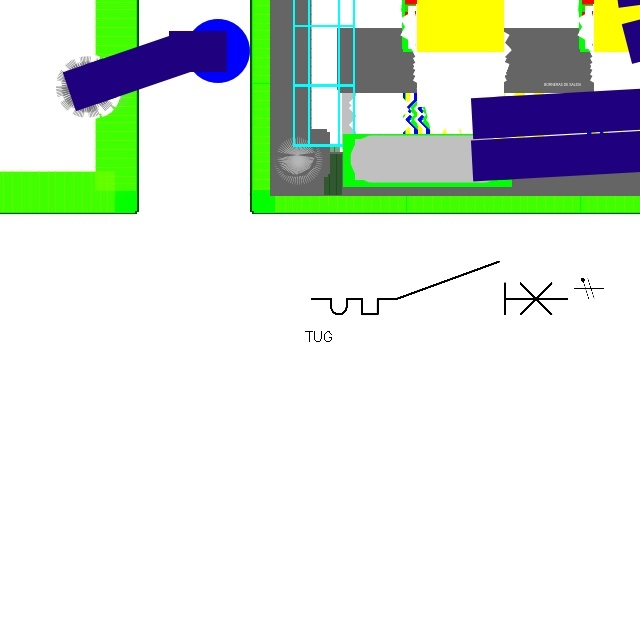interruptor_termomagnetico: (305, 255, 574, 321)
